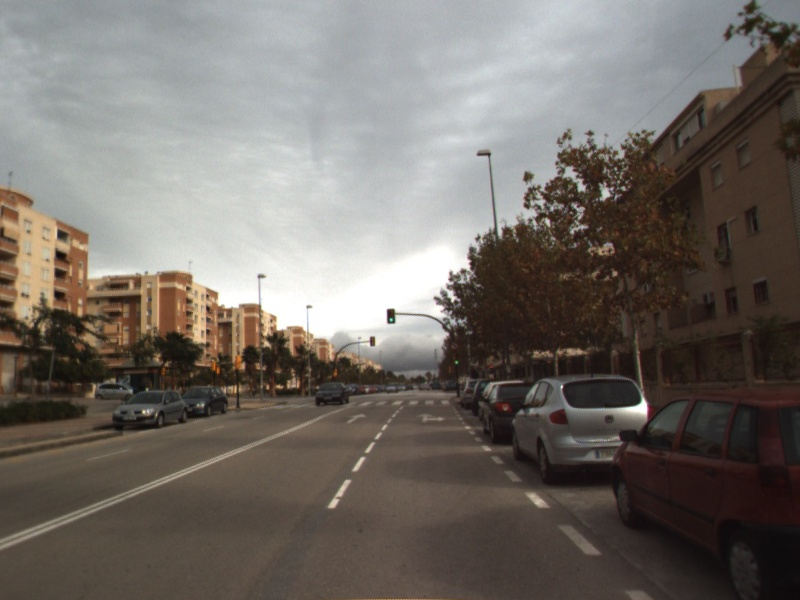STRAIGHT: (344, 411, 369, 425)
STRAIGHT_RIGHT: (414, 411, 447, 424)
